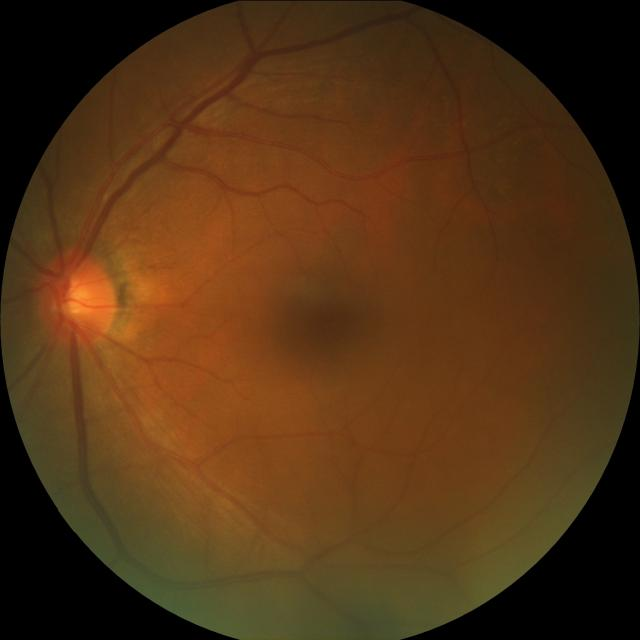OC: (54, 275, 96, 318)
OD: (34, 250, 120, 348)
